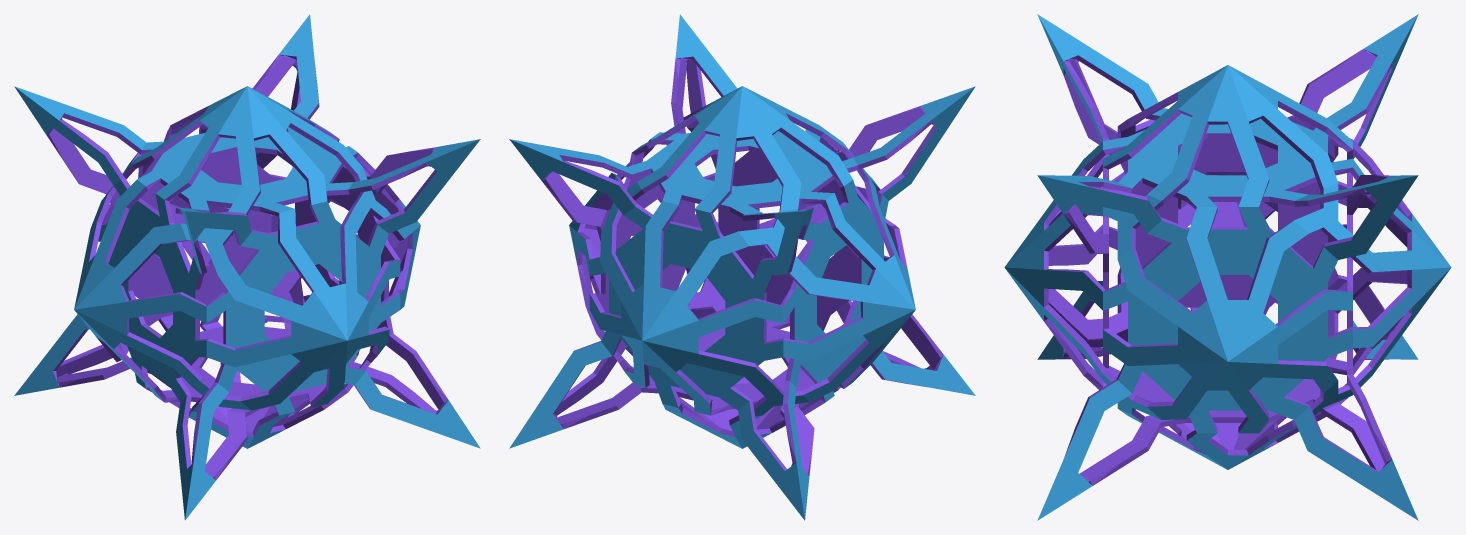
File: StarPolyknotTruncatedCube1.glb
3 renders of one model, left to right at view 1: azimuth 30°, elevation 25°; view 2: azimuth 150°, elevation 25°; view 3: azimuth 270°, elevation 25°, orthographic. The views are drawn at different scales.
Parts seen in each view (by area): view 1: ESCHER_BBBa_A4; view 2: ESCHER_BBBa_A4; view 3: ESCHER_BBBa_A4.
Boxes of the visible parts, x1,y1,x2,y2 form: ESCHER_BBBa_A4: [14, 14, 480, 520]; ESCHER_BBBa_A4: [509, 14, 975, 520]; ESCHER_BBBa_A4: [1004, 14, 1451, 520].
Size of the model in its own units: 150 by 150 by 150.
